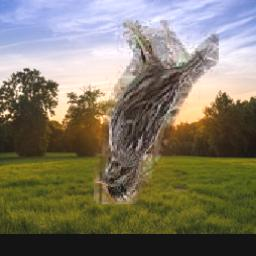Sparrow: (94, 20, 219, 204)
